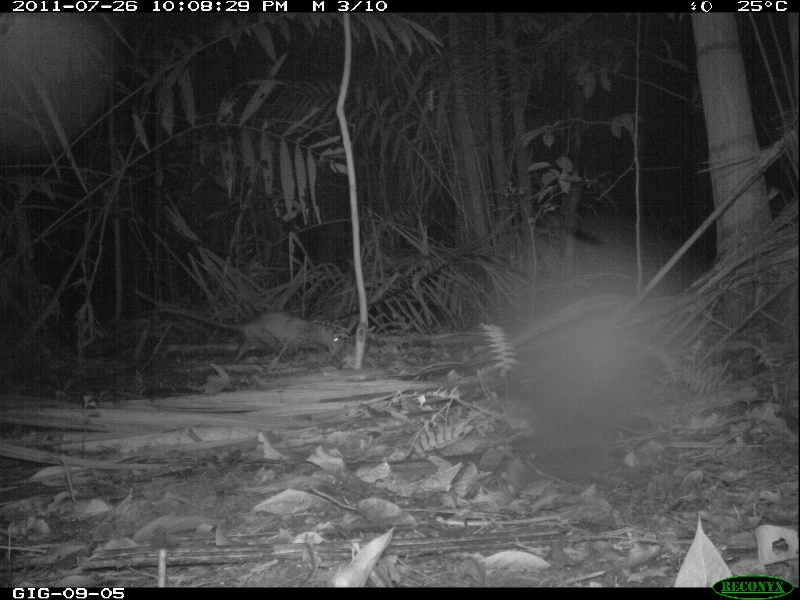opossum: (158, 304, 349, 361)
